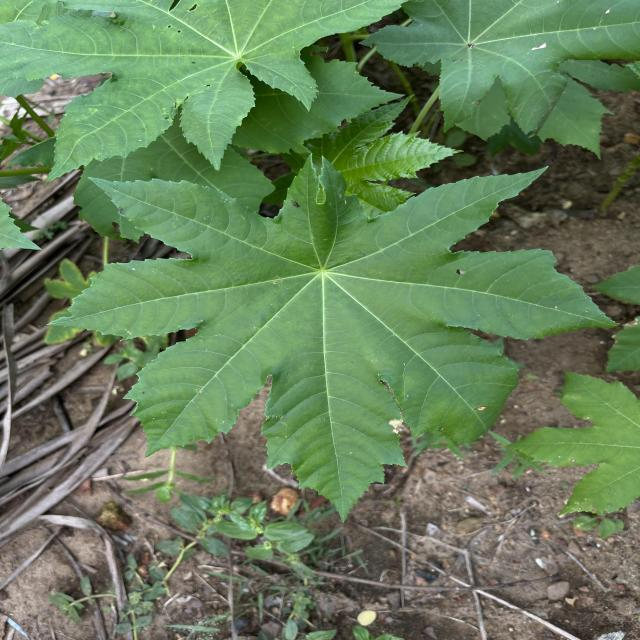Ricinus communis linn: (42, 142, 628, 527)
